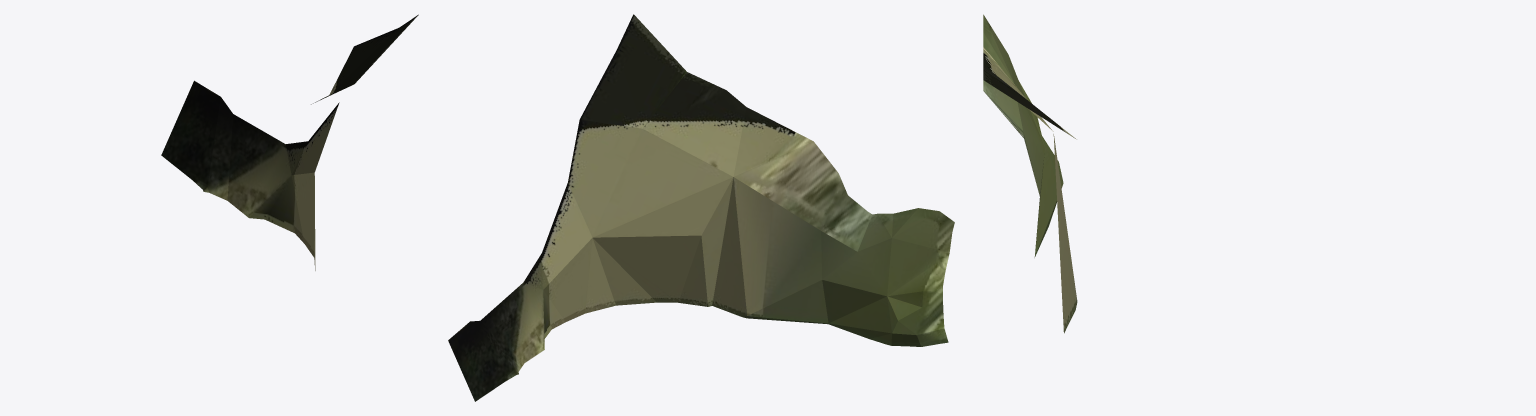
The picture shows the model from 3 angles, left to right: view 1: azimuth 30°, elevation 25°; view 2: azimuth 150°, elevation 25°; view 3: azimuth 270°, elevation 25°; orthographic projection. The views are drawn at different scales.
Size of the model in its own units: 11.8 by 8.61 by 11.8.
2 materials, 2 textured.
